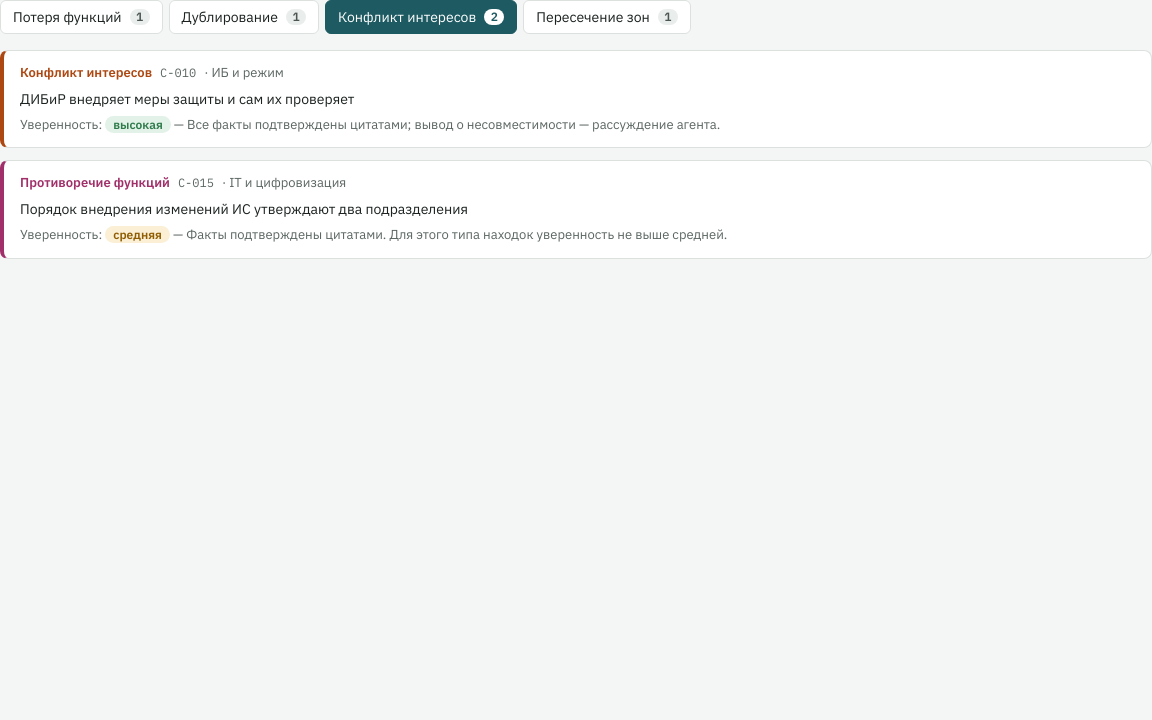
Test: AnalysisView › labels conflicts and contradictions apart and caps the contradiction at medium
Expected: the tab "Конфликт интересов 2" is shown, 325,0 -> 517,34
Expected: the button "C-010" shows "Конфликт интересов", 0,50 -> 1151,148
Click the button "C-015" at (95, 183), box 0,160 -> 1151,259
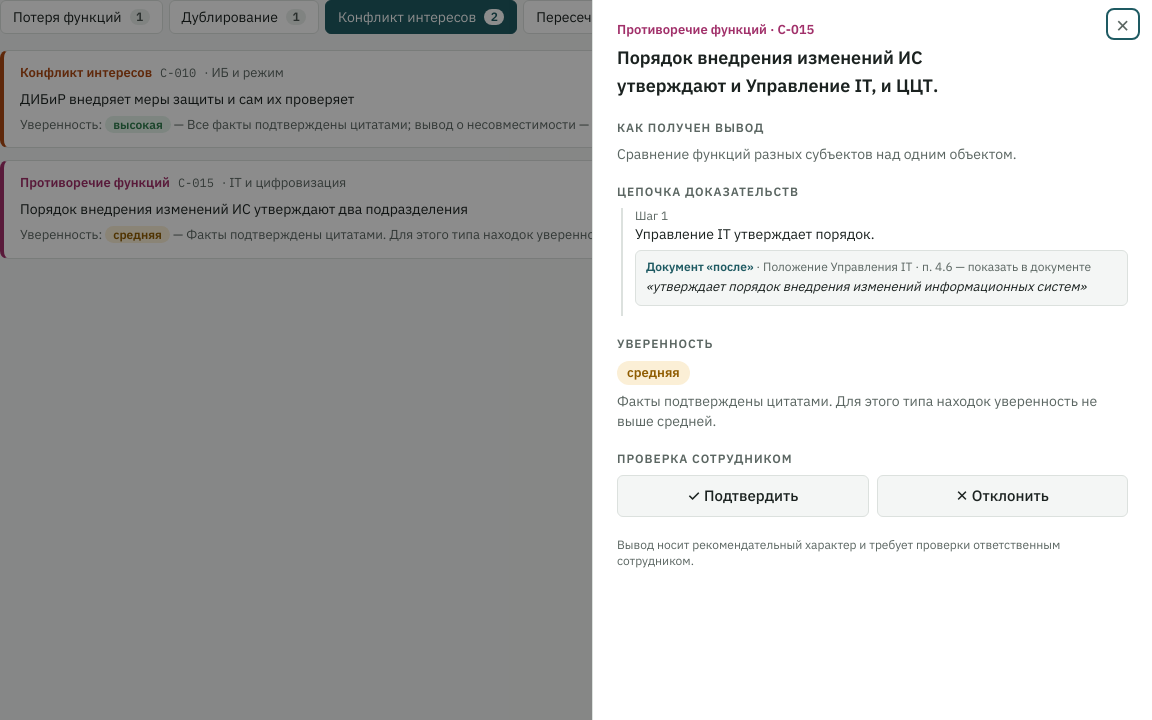
Expected: the dialog does not show "высокая"
Result: the dialog is shown at 592,0 -> 1151,719
Result: the text "средняя" is shown at 617,361 -> 690,385
